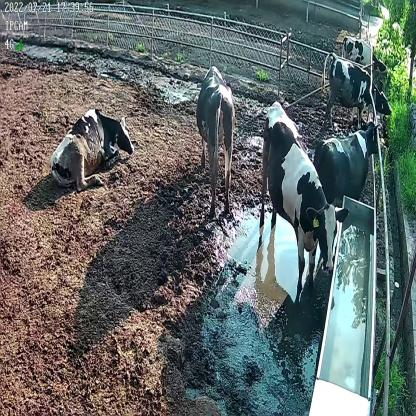cow: (257, 99, 350, 301), (49, 105, 137, 190), (195, 66, 237, 219), (314, 120, 382, 212), (320, 52, 393, 131), (343, 37, 390, 78)
